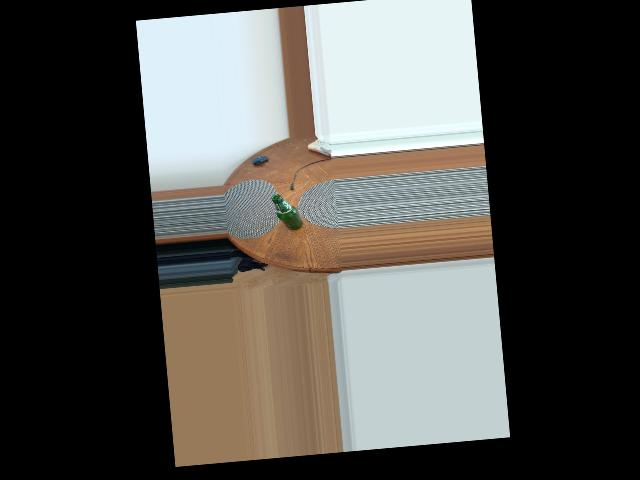beer: (271, 192, 305, 232)
